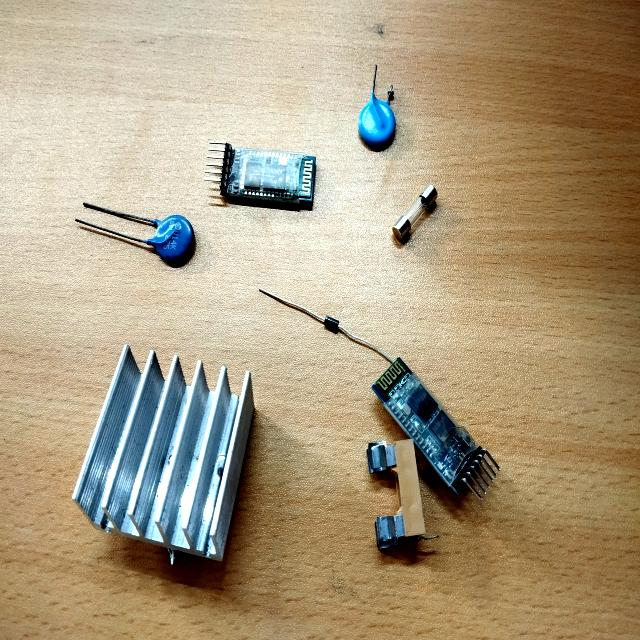capacitor: (150, 215, 196, 268), (358, 99, 396, 151)
